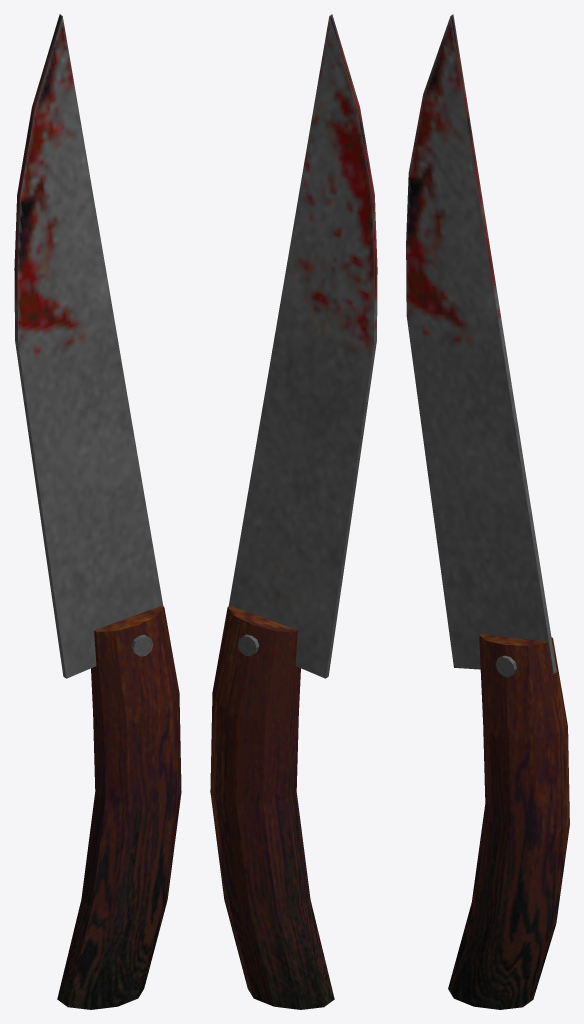
The model's file is knife_psx.glb.
The picture shows the model from 3 angles, left to right: view 1: azimuth 30°, elevation 25°; view 2: azimuth 150°, elevation 25°; view 3: azimuth 330°, elevation 25°; orthographic projection.
Parts seen in each view (by area): view 1: Lamina, Cabo; view 2: Lamina, Cabo; view 3: Lamina, Cabo.
Boxes of the visible parts, left/top/right/bottom form: Lamina: left=14, top=14, right=163, bottom=678; Cabo: left=57, top=605, right=181, bottom=1009; Lamina: left=228, top=14, right=377, bottom=678; Cabo: left=210, top=605, right=334, bottom=1009; Lamina: left=406, top=14, right=556, bottom=674; Cabo: left=448, top=633, right=569, bottom=1009.
Size of the model in its own units: 0.5124 by 3.02 by 0.1905.
3 materials, 3 textured.
